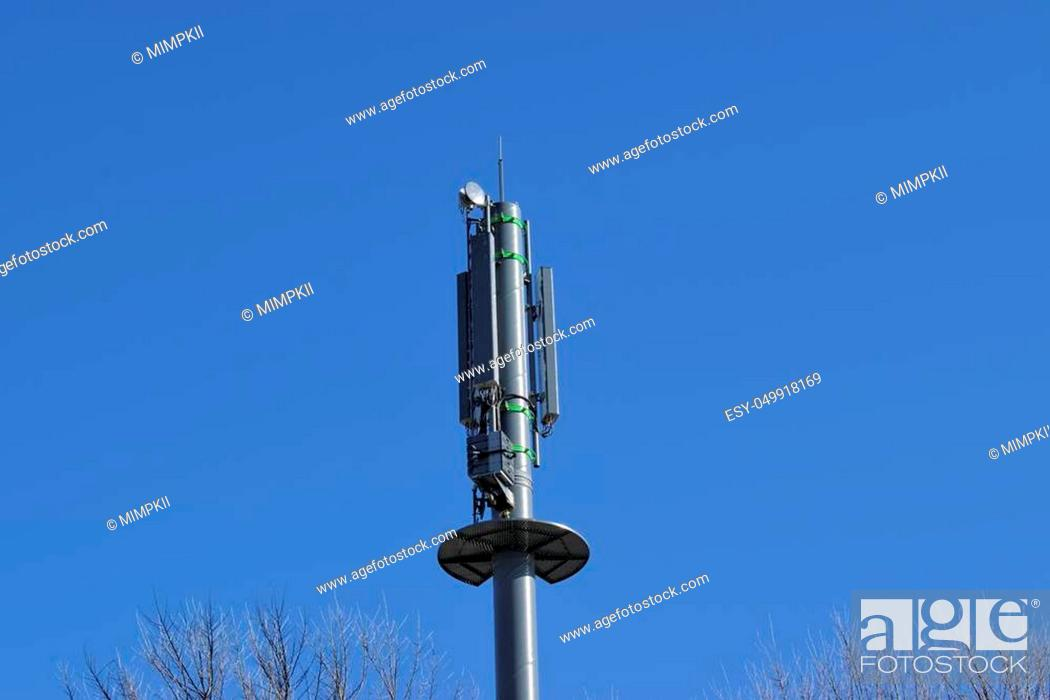sa: (532, 264, 568, 460)
